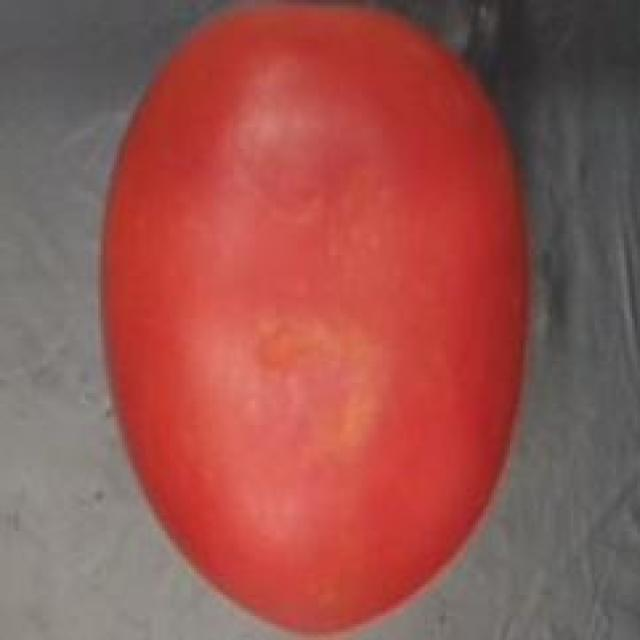ripe tomato: (82, 0, 547, 640)
